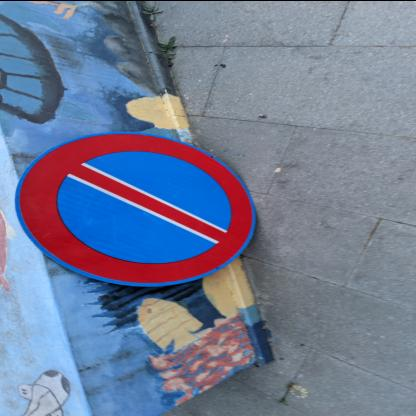No Waiting: (17, 132, 257, 286)
